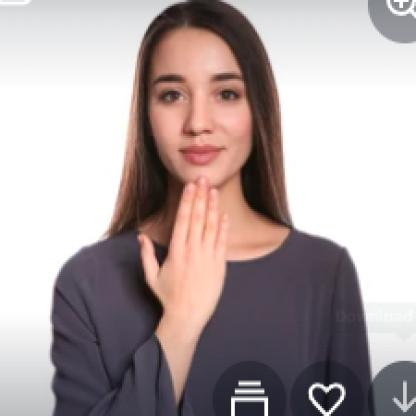thankyou: (134, 140, 236, 352)
